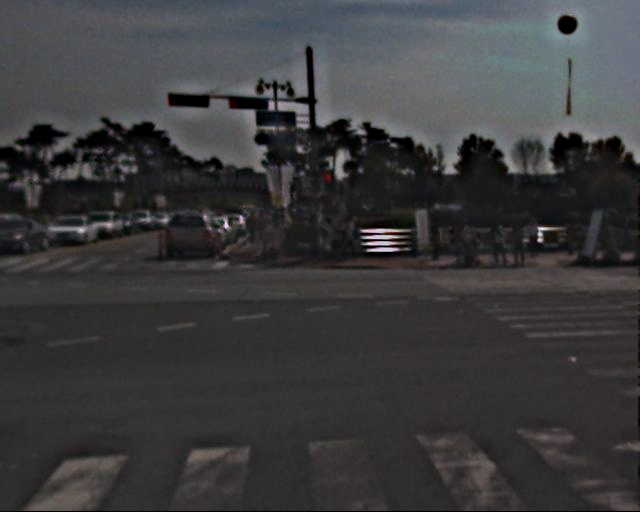person: (434, 216, 543, 271), (246, 210, 295, 238), (308, 210, 329, 262), (344, 210, 365, 261)
